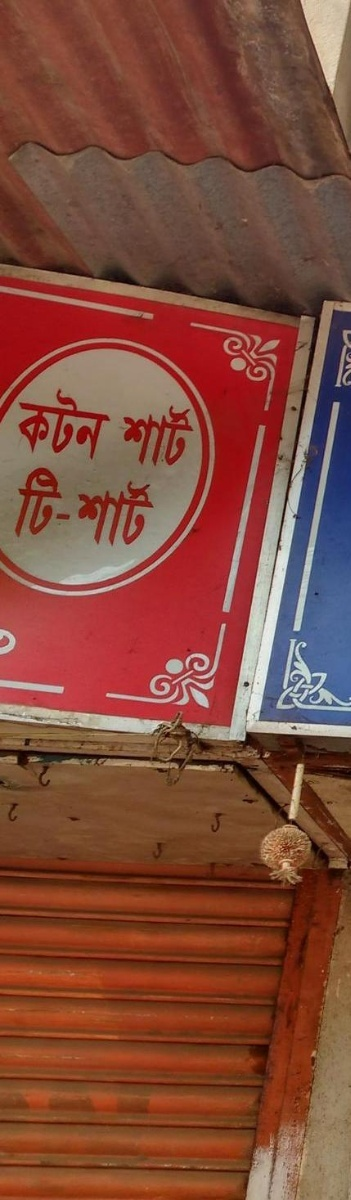text: (33, 379, 48, 472), (49, 379, 64, 472), (65, 379, 80, 472), (81, 379, 96, 472), (97, 379, 112, 472), (17, 462, 32, 550), (33, 462, 48, 550), (49, 462, 64, 550), (65, 462, 80, 550), (81, 462, 96, 550), (97, 462, 112, 550), (113, 462, 128, 550), (129, 462, 144, 550), (145, 462, 160, 550), (19, 379, 32, 472), (3, 462, 16, 550), (129, 398, 144, 473), (145, 398, 160, 473), (161, 398, 176, 473), (177, 398, 192, 473), (113, 379, 124, 472), (116, 398, 128, 473), (161, 462, 165, 550), (193, 398, 196, 473)
